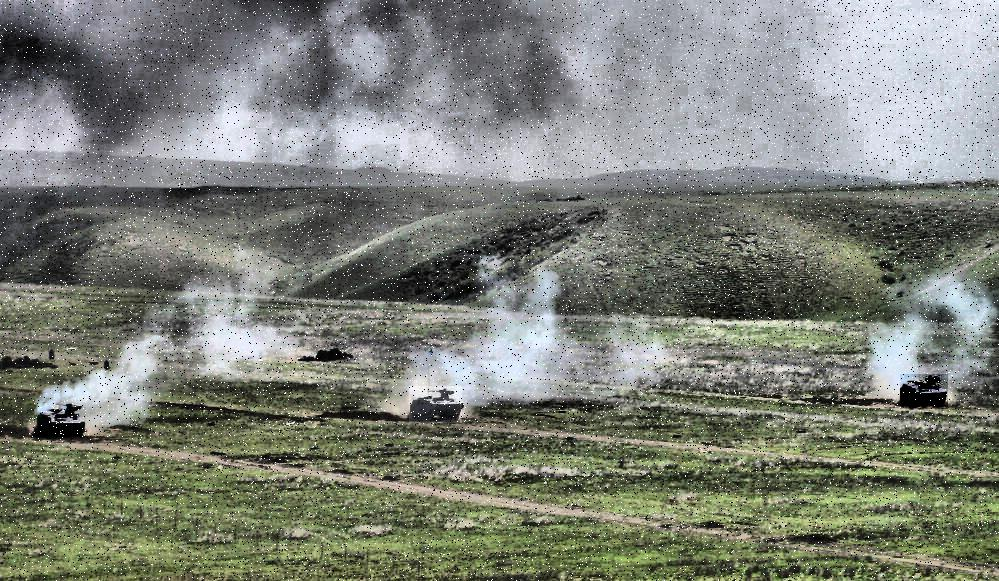military-vehicle: (410, 386, 463, 423), (35, 402, 87, 437), (900, 375, 948, 410)
